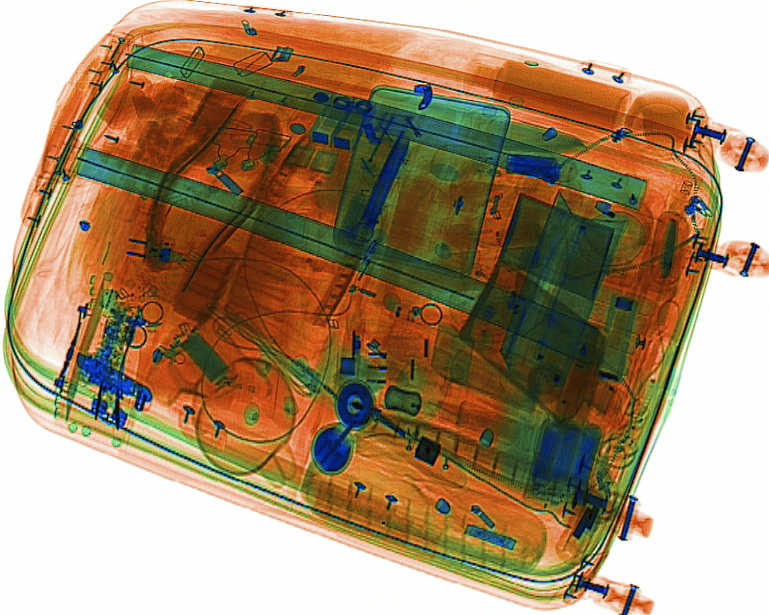powerbank: (521, 420, 609, 511)
